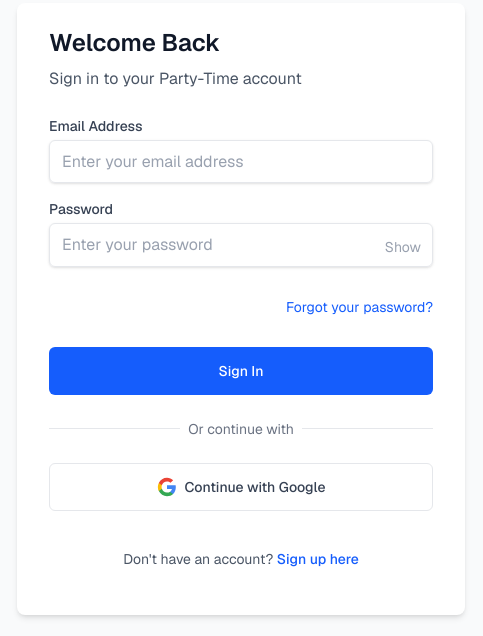
Page Integration Tests › SignIn Page Integration › View Management › should switch between login and register views
Expected: the heading "Welcome Back" is shown, [49,27,220,58]
// Switch to register
Click the button "Sign up here": coordinates (318, 559) [277,535,359,583]
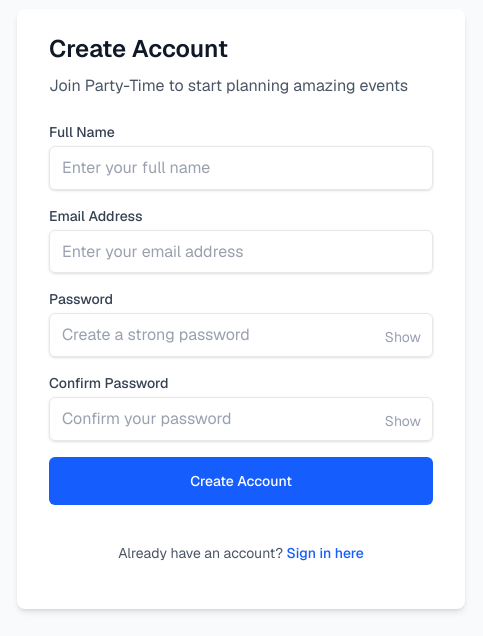
Result: the heading "Create Account" is shown at [49,33,228,64]
Result: the field labelled "Full Name" is shown at [49,146,433,190]
Result: the password field labelled "Confirm Password" is shown at [49,397,433,441]
// Switch back to login
Click the button "Sign in here": coordinates (325, 553) [286,529,364,577]
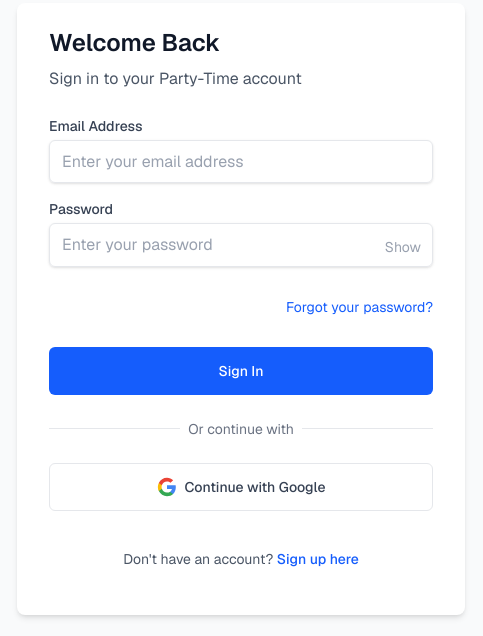
Result: the heading "Welcome Back" is shown at [49,27,220,58]
